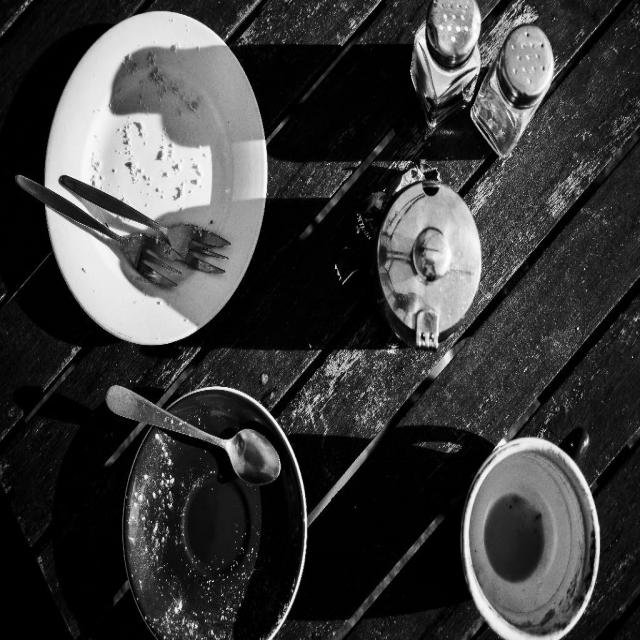non-organic waste: (51, 8, 265, 324)
